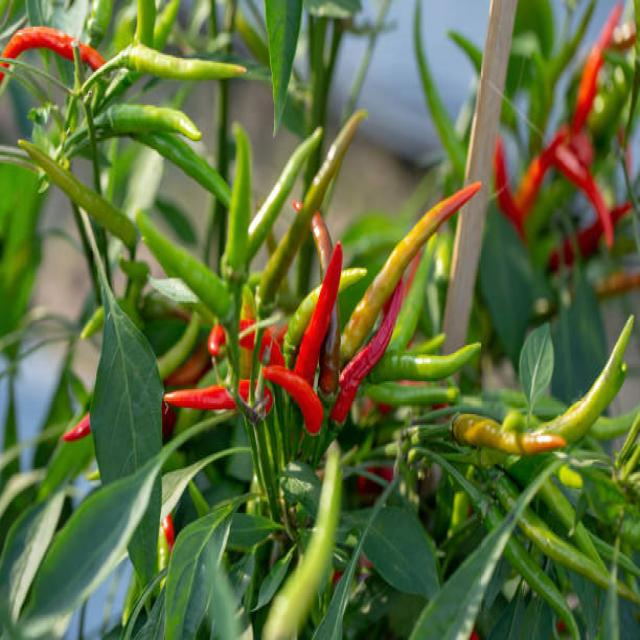Half-Ripe: (340, 182, 481, 361), (452, 414, 566, 455), (319, 300, 340, 396), (310, 212, 332, 278)
Ripe: (330, 279, 402, 423), (294, 242, 342, 383), (2, 26, 109, 66), (262, 366, 324, 434), (165, 384, 236, 410), (62, 412, 91, 442)
Unripe: (259, 111, 366, 307), (496, 472, 638, 604), (483, 502, 581, 640), (19, 142, 136, 248), (540, 312, 634, 439), (138, 215, 234, 323), (249, 128, 322, 263), (82, 43, 246, 93), (134, 133, 231, 207), (221, 124, 251, 284), (368, 343, 481, 383), (95, 103, 201, 140), (284, 287, 319, 359), (362, 382, 459, 406), (339, 270, 368, 292)
